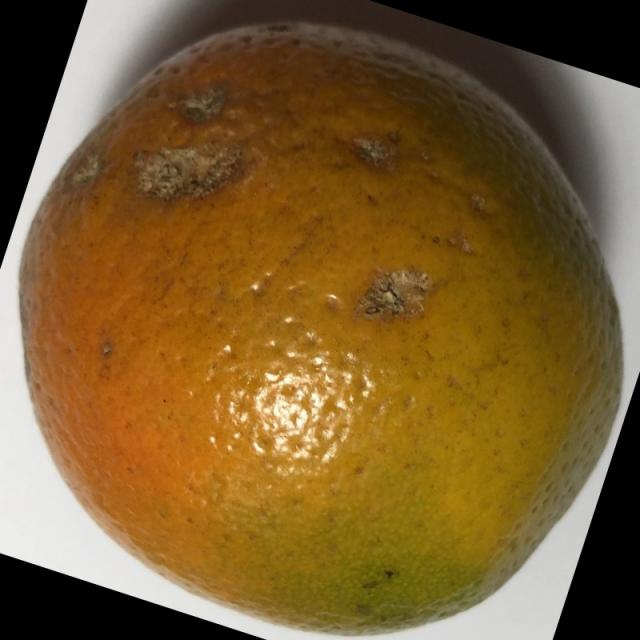canker: (10, 16, 640, 640)
